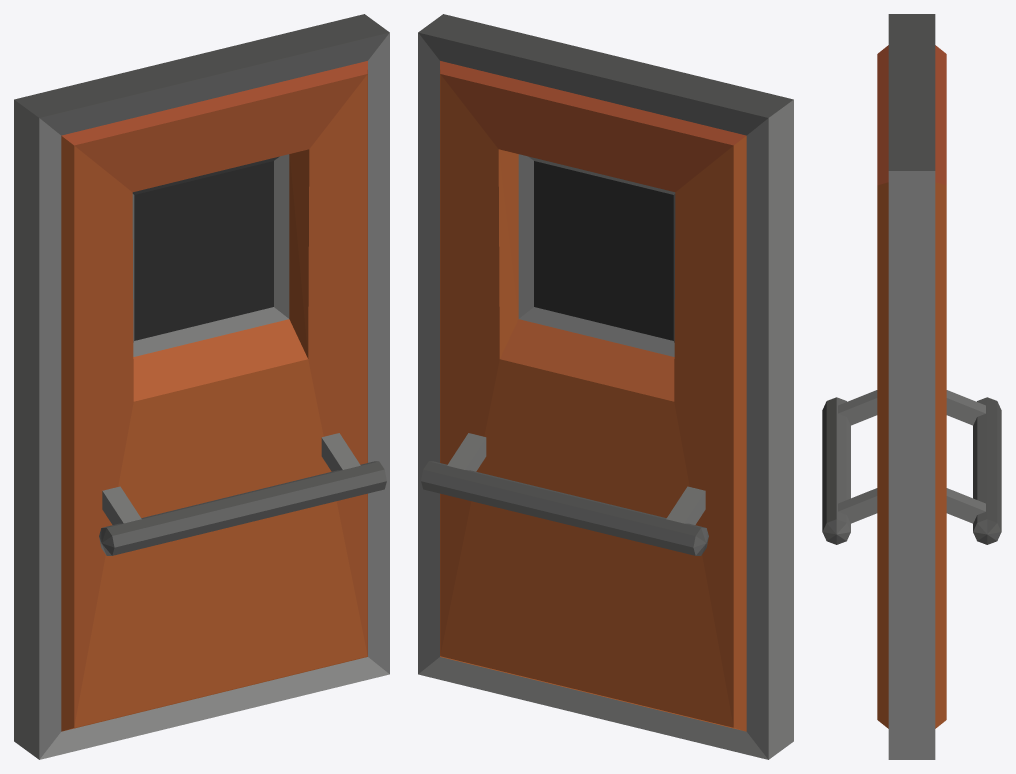
The model's file is kkr_door_B.obj.
3 views of the same model, side by side, from view 1: azimuth 30°, elevation 25°; view 2: azimuth 150°, elevation 25°; view 3: azimuth 270°, elevation 25° (orthographic). The views are drawn at different scales.
Size of the model in its own units: 1.6 by 2.8 by 0.7714.
